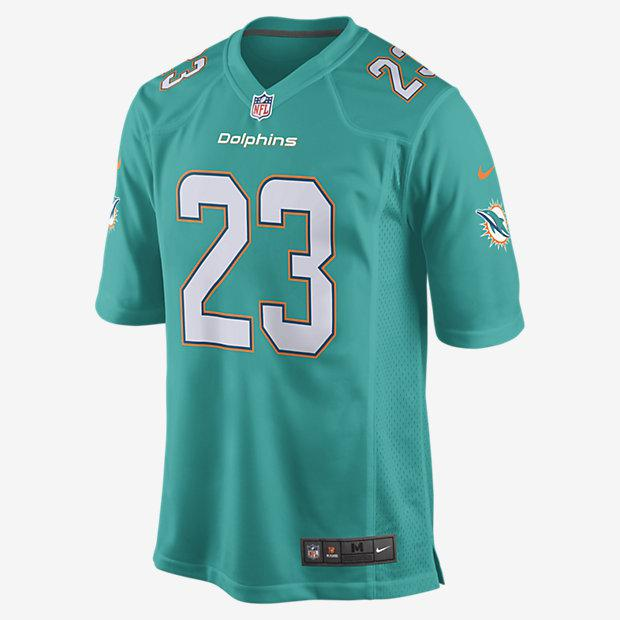teeshirt: (83, 14, 537, 620)
